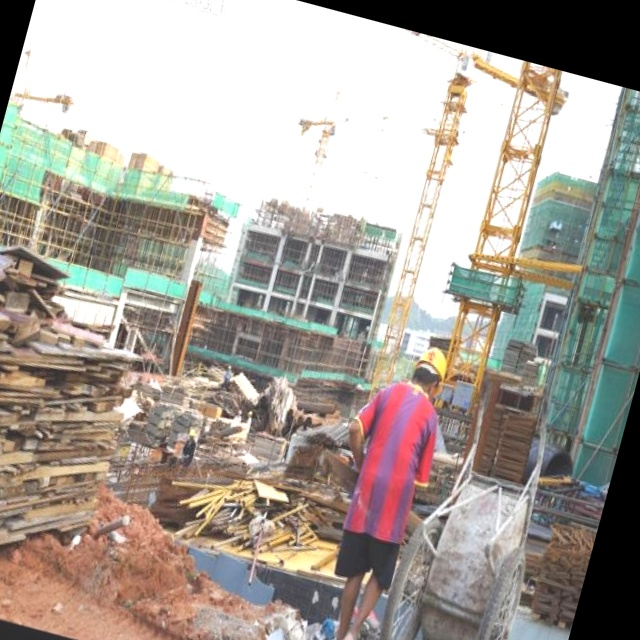Con_Casco: (407, 341, 452, 396)
